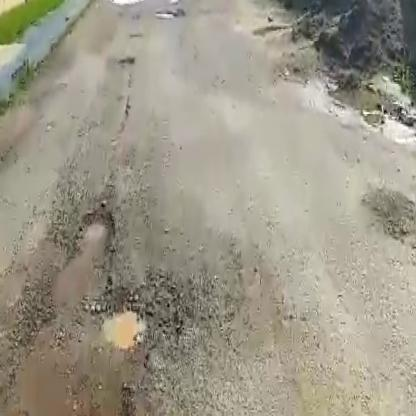pothole: (101, 300, 147, 349), (79, 206, 114, 255), (99, 0, 144, 10)
